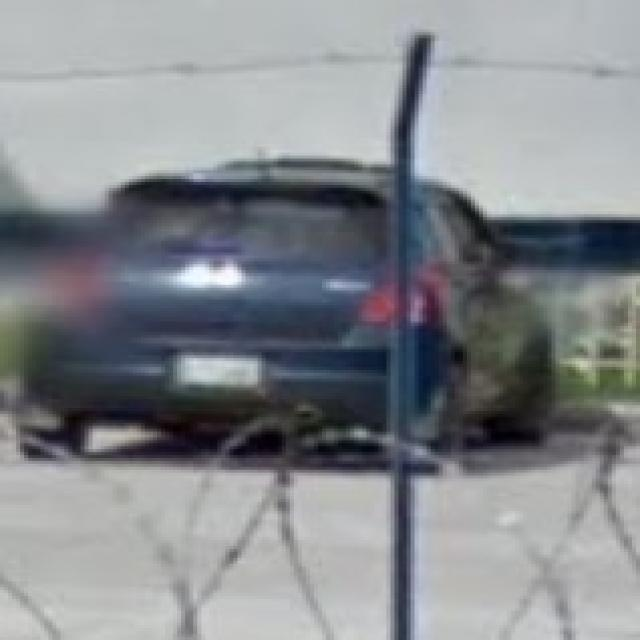Car: (19, 158, 550, 455)
